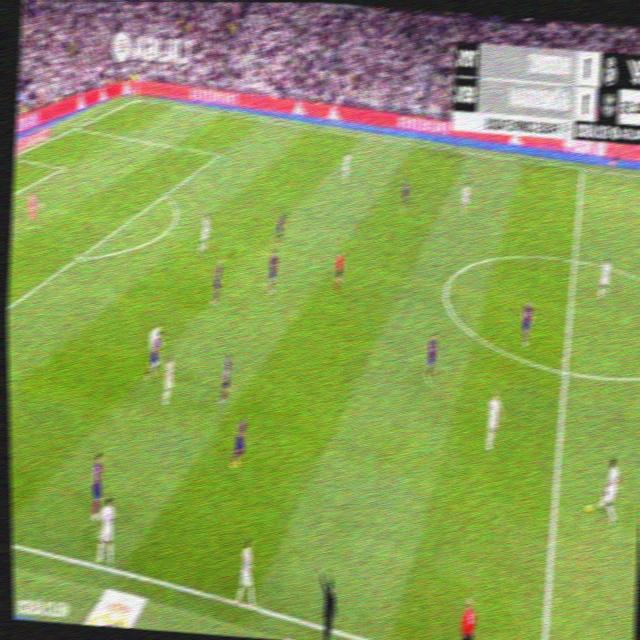bigarea_top_inner: (215, 148, 223, 160)
bigarea_top_outter: (70, 119, 82, 134)
bottom_arc_area_intersection: (73, 247, 84, 265)
corner: (132, 92, 142, 103)
halfcircle_bottom: (556, 356, 573, 386)
halfcircle_top: (565, 247, 581, 272)
midline_top_intersection: (576, 162, 587, 175)
smallarea_top_inner: (58, 162, 66, 172)
top_arc_area_intersection: (160, 187, 169, 200)
